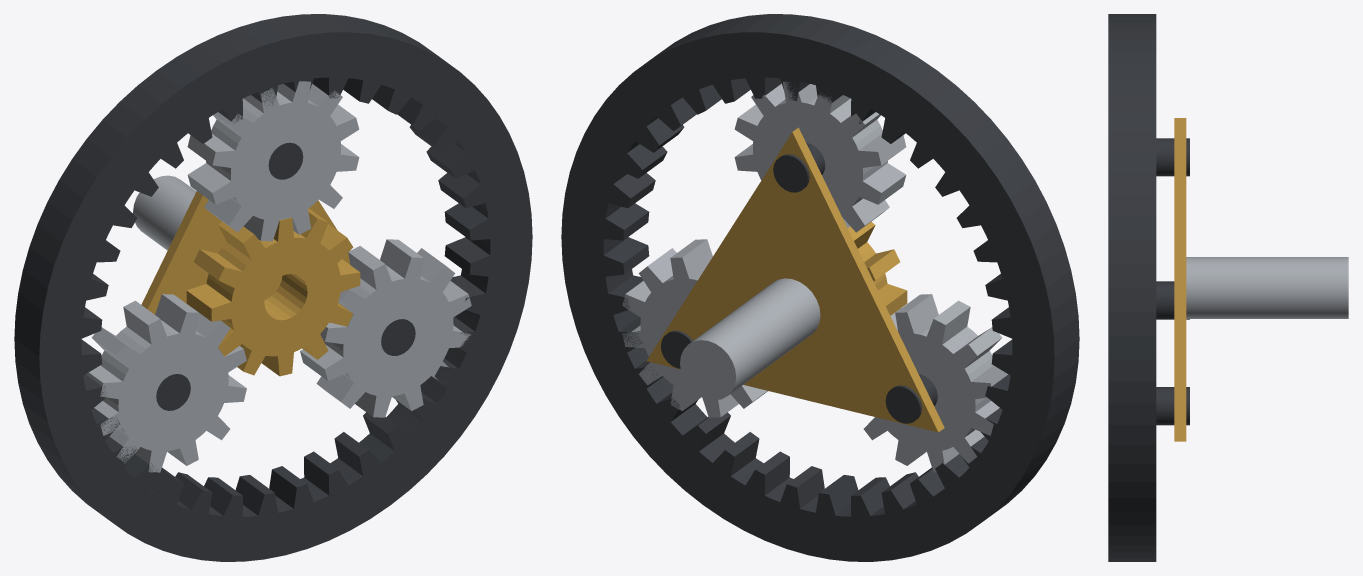
The model's file is gear-train.glb.
The picture shows the model from 3 angles, left to right: view 1: azimuth 30°, elevation 25°; view 2: azimuth 150°, elevation 25°; view 3: azimuth 270°, elevation 25°; orthographic projection. The views are drawn at different scales.
Parts seen in each view (by area): view 1: part7, part0, part3, part1, part5, part8, part9, part2, part4, part6; view 2: part7, part8, part1, part3, part9, part5, part0, part2, part4, part6; view 3: part7, part9, part8, part2, part6, part4.
Boxes of the visible parts, <box> form: part7: <box>14,14,532,561</box>; part0: <box>186,208,360,376</box>; part3: <box>85,294,246,472</box>; part1: <box>187,81,359,241</box>; part5: <box>300,239,471,417</box>; part8: <box>141,191,350,314</box>; part9: <box>133,175,196,250</box>; part2: <box>268,142,303,179</box>; part4: <box>156,374,190,410</box>; part6: <box>381,319,415,355</box>; part7: <box>561,14,1079,561</box>; part8: <box>646,127,944,432</box>; part1: <box>734,81,906,232</box>; part3: <box>863,294,1008,472</box>; part9: <box>680,278,820,400</box>; part5: <box>622,239,767,417</box>; part0: <box>848,221,907,315</box>; part2: <box>773,143,825,192</box>; part4: <box>885,374,937,423</box>; part6: <box>661,330,692,368</box>; part7: <box>1108,14,1156,561</box>; part9: <box>1186,257,1348,318</box>; part8: <box>1174,118,1186,441</box>; part2: <box>1156,138,1189,176</box>; part6: <box>1156,387,1189,425</box>; part4: <box>1156,281,1189,319</box>.
Size of the model in its own units: 2.28 by 2.28 by 1.
